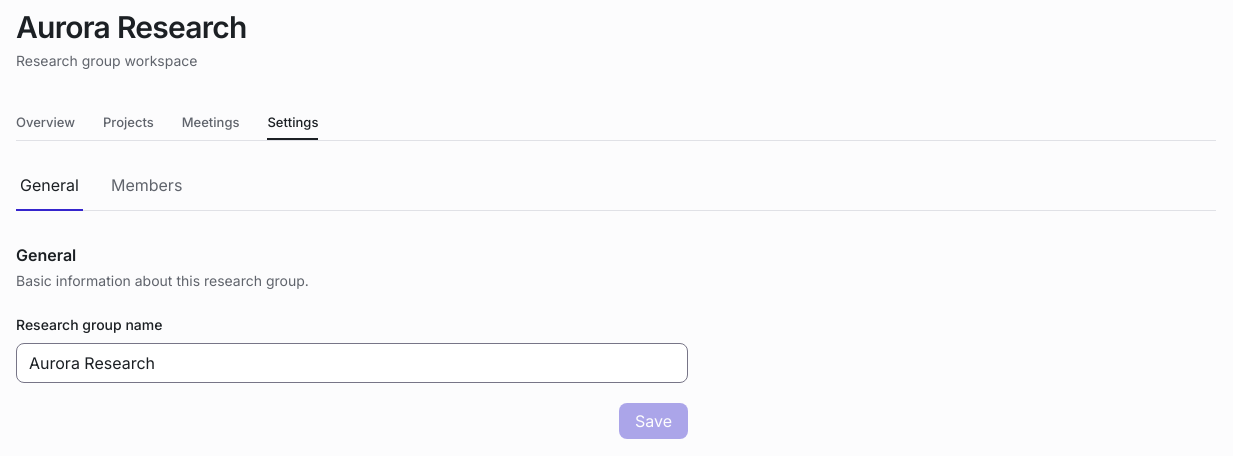
it: Research Group Settings theme contract › keeps the Save button states distinguishable in light
Expected: the button "Save" is disabled, [619,403,688,439]
Replace the text in the field labelled "Research group name" with "Aurora Lab" at (352,363), box [16,343,688,383]
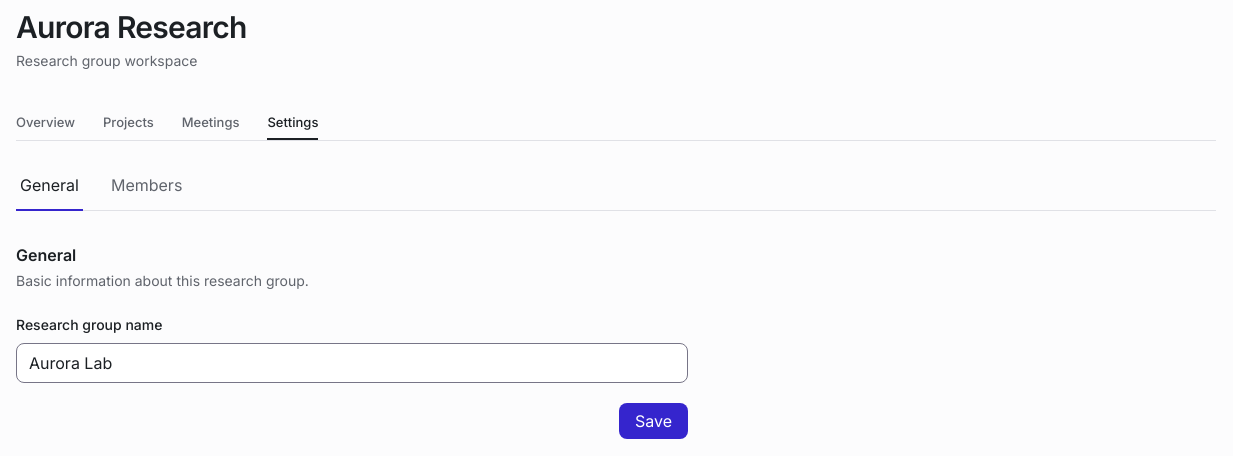
Result: the button "Save" is enabled at [619,403,688,439]
